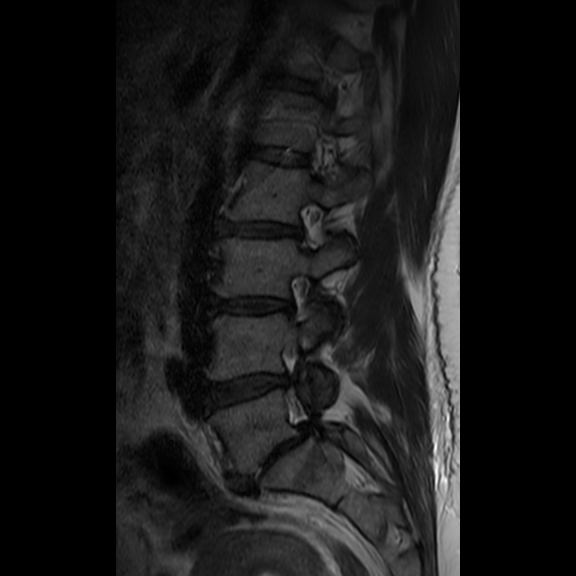RFS0: (282, 191, 328, 258), (273, 263, 317, 326)
